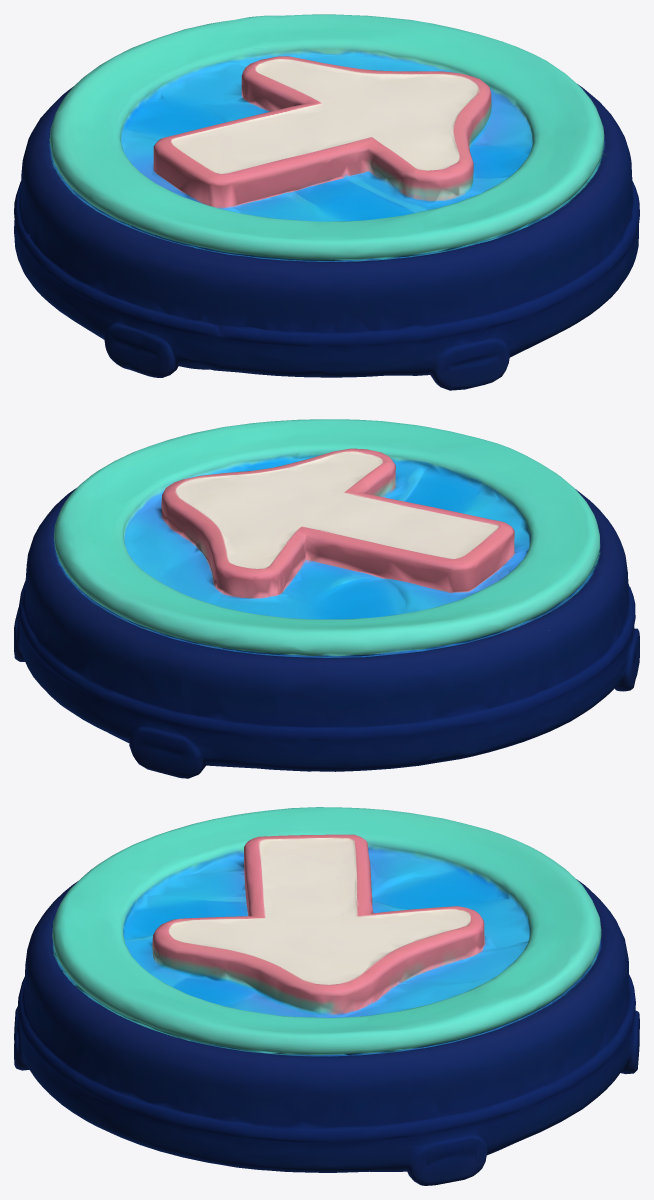
The model's file is jump-pad.glb.
3 views of the same model, one above another, from view 1: azimuth 30°, elevation 25°; view 2: azimuth 150°, elevation 25°; view 3: azimuth 270°, elevation 25° (orthographic).
Parts seen in each view (by area): view 1: tripo_node_138495f4-fb1b-4108-a7f9-6c91fa4e81b6; view 2: tripo_node_138495f4-fb1b-4108-a7f9-6c91fa4e81b6; view 3: tripo_node_138495f4-fb1b-4108-a7f9-6c91fa4e81b6.
Boxes of the visible parts, x1,y1,x2,y2 form: tripo_node_138495f4-fb1b-4108-a7f9-6c91fa4e81b6: (14, 14, 639, 390); tripo_node_138495f4-fb1b-4108-a7f9-6c91fa4e81b6: (14, 419, 639, 778); tripo_node_138495f4-fb1b-4108-a7f9-6c91fa4e81b6: (14, 807, 639, 1185).
Size of the model in its own units: 1 by 0.2747 by 0.9999.
Materials: 1 (1 with a texture image).
